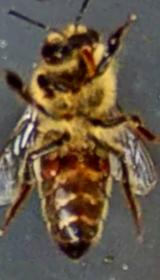varroa_mite: (37, 147, 64, 181)
